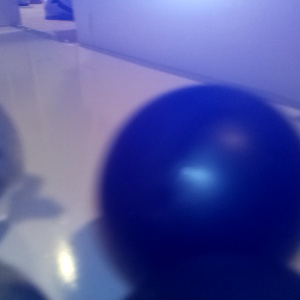alive_ball: (1, 262, 53, 300)
dead_ball: (98, 83, 300, 300)
